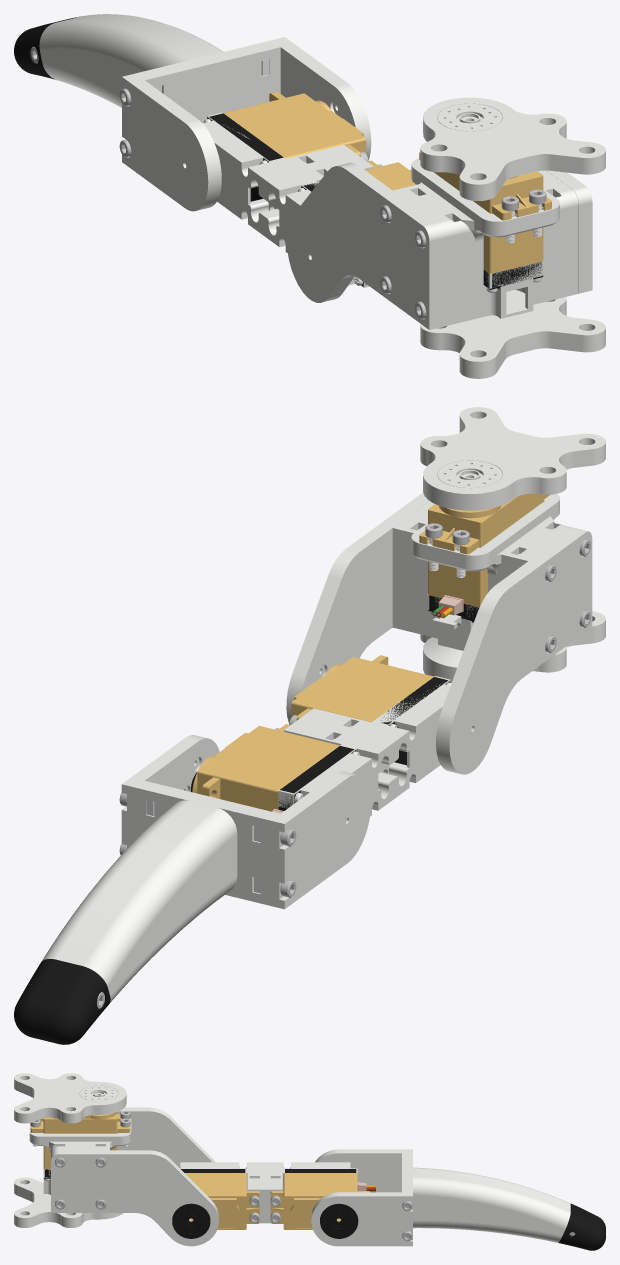
File: leg v14.fbx
3 renders of one model, top to bottom at view 1: azimuth 30°, elevation 25°; view 2: azimuth 150°, elevation 25°; view 3: azimuth 270°, elevation 25°, orthographic. The views are drawn at different scales.
Parts seen in each view (by area): view 1: Trochanter-left, Tibia-center, Trochanter-Servo mount, Coxa-top, housing top (×3), Tibia-lef, Femur-Servo mount, Coxa-bottom, Tibia-right, housing bottom (×2), Trochanter-right, Body1 (+1 smaller); view 2: Tibia-center, housing top (×3), Trochanter-left, Coxa-top, Trochanter-Servo mount, Trochanter-right, Femur-Servo mount, Tibia-lef, Tibia-tip, Tibia-right, Coxa-bottom, housing bottom (×2) (+1 smaller); view 3: Trochanter-right, Tibia-center, housing top (×3), Tibia-right, Coxa-top, Trochanter-left, Body1 (×3), Tibia-lef, Femur-Servo mount, Coxa-bottom, Trochanter-Servo mount, Tibia-tip (+1 smaller).
Boxes of the visible parts, x1,y1,x2,y2 form: Trochanter-left: [286, 162, 442, 329]; Tibia-center: [39, 14, 280, 123]; Trochanter-Servo mount: [393, 158, 578, 326]; Coxa-top: [420, 97, 605, 200]; housing top (×3): [223, 91, 551, 273]; Tibia-lef: [122, 73, 221, 211]; Femur-Servo mount: [203, 112, 373, 287]; Coxa-bottom: [420, 297, 605, 378]; Tibia-right: [272, 37, 371, 159]; housing bottom (×2): [207, 113, 543, 289]; Trochanter-right: [547, 170, 592, 293]; Body1: [437, 103, 502, 131]; Tibia-center: [41, 781, 280, 1003]; housing top (×3): [192, 493, 550, 811]; Trochanter-left: [436, 528, 592, 774]; Coxa-top: [420, 407, 605, 510]; Trochanter-Servo mount: [392, 494, 574, 650]; Trochanter-right: [286, 492, 429, 722]; Femur-Servo mount: [278, 676, 450, 816]; Tibia-lef: [271, 771, 370, 909]; Tibia-tip: [14, 959, 110, 1044]; Tibia-right: [121, 735, 219, 848]; Coxa-bottom: [420, 611, 605, 682]; housing bottom (×2): [278, 677, 450, 810]; Trochanter-right: [51, 1150, 218, 1246]; Tibia-center: [402, 1153, 570, 1242]; housing top (×3): [30, 1112, 369, 1229]; Tibia-right: [311, 1192, 412, 1246]; Coxa-top: [14, 1073, 126, 1123]; Trochanter-left: [117, 1107, 214, 1167]; Body1 (×3): [80, 1085, 358, 1238]; Tibia-lef: [315, 1149, 412, 1192]; Femur-Servo mount: [179, 1162, 357, 1223]; Coxa-bottom: [14, 1177, 123, 1227]; Trochanter-Servo mount: [29, 1118, 131, 1194]; Tibia-tip: [558, 1203, 605, 1250].
Bounding box in the file's own units: 62.1 × 90.83 × 320.
